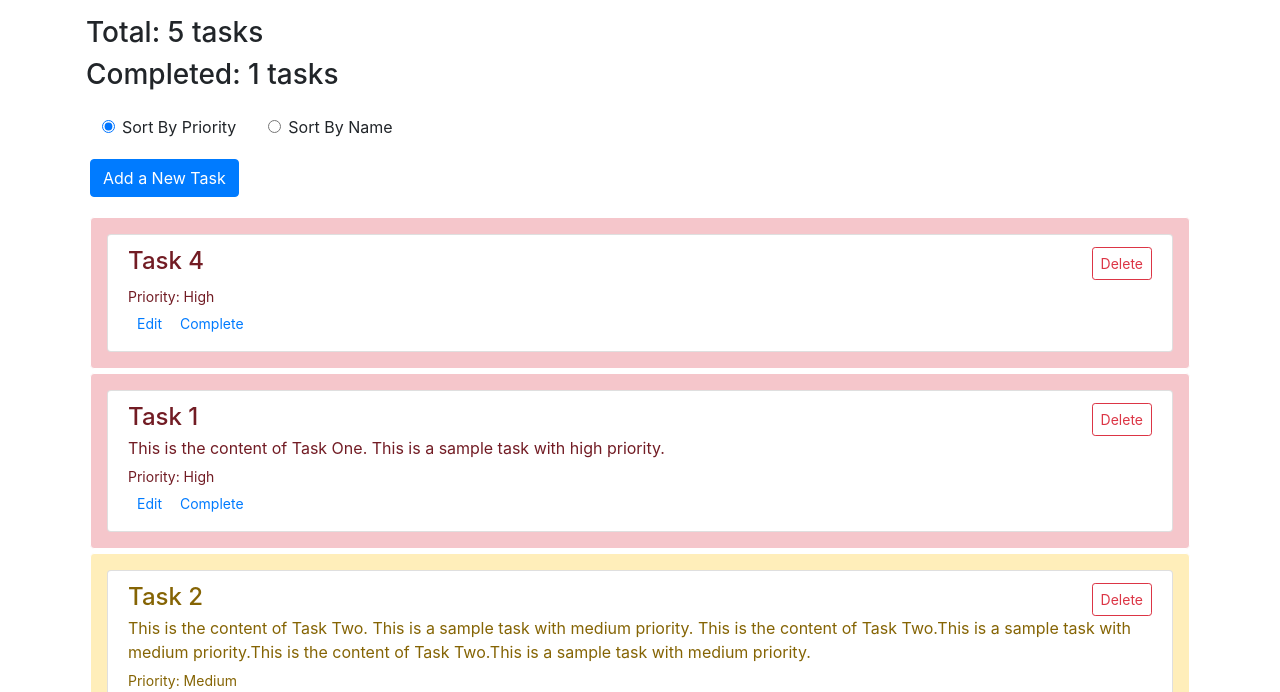
complete a task
This screenshot has width=1280, height=692.
Click the button "Complete" below "Task 4" at (212, 324), box [171, 308, 253, 339]
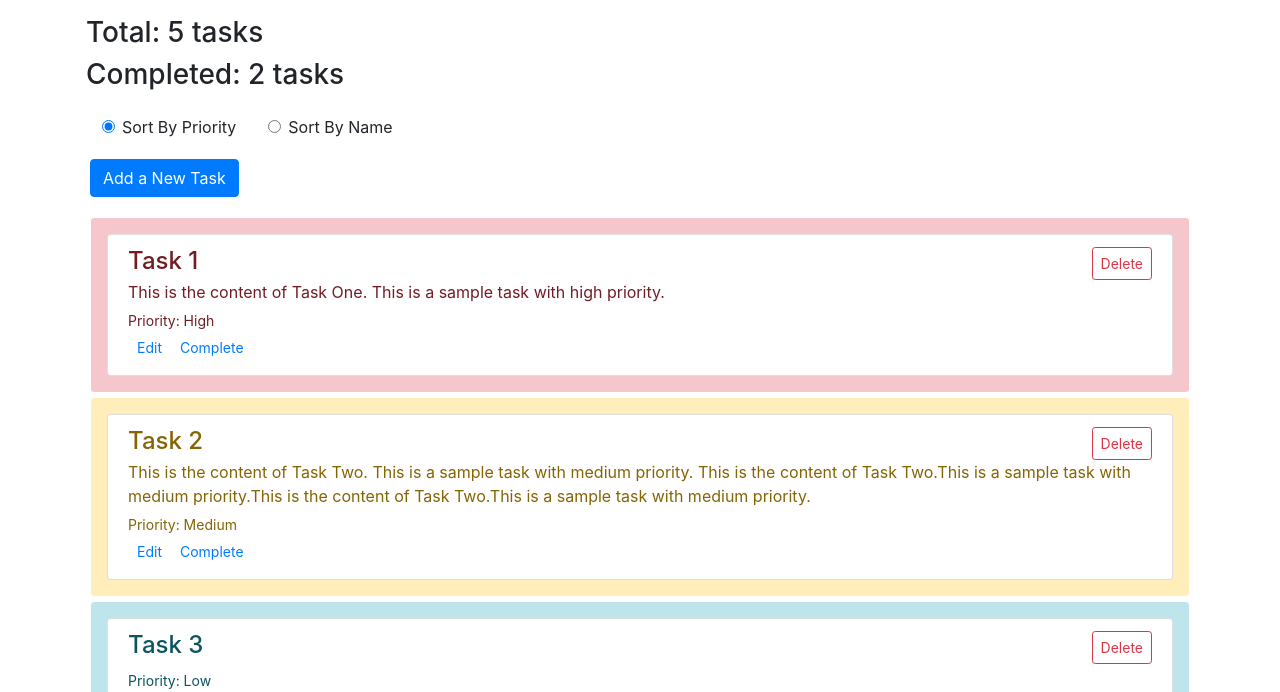
Check: the heading "Completed: 2 tasks" is shown, box [86, 57, 344, 91]
